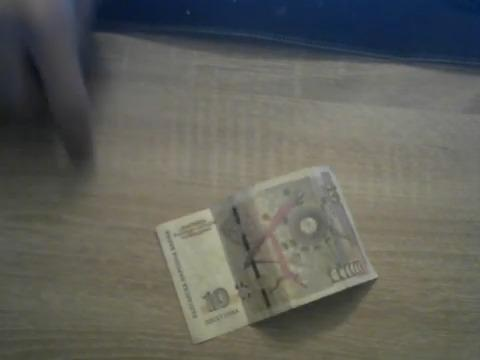10leva: (155, 166, 378, 345)
